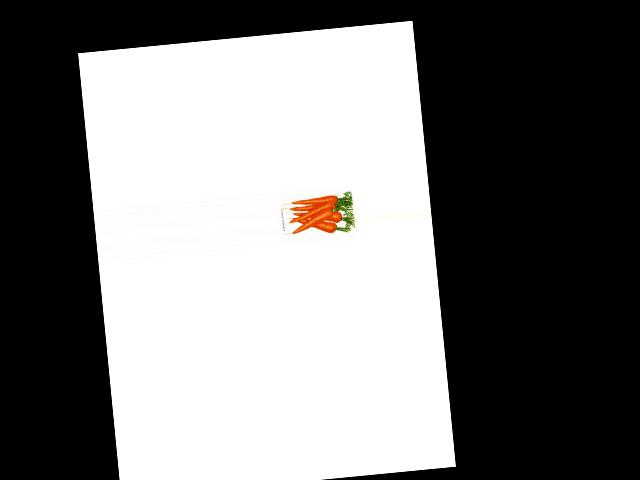carrot: (282, 200, 336, 219)
